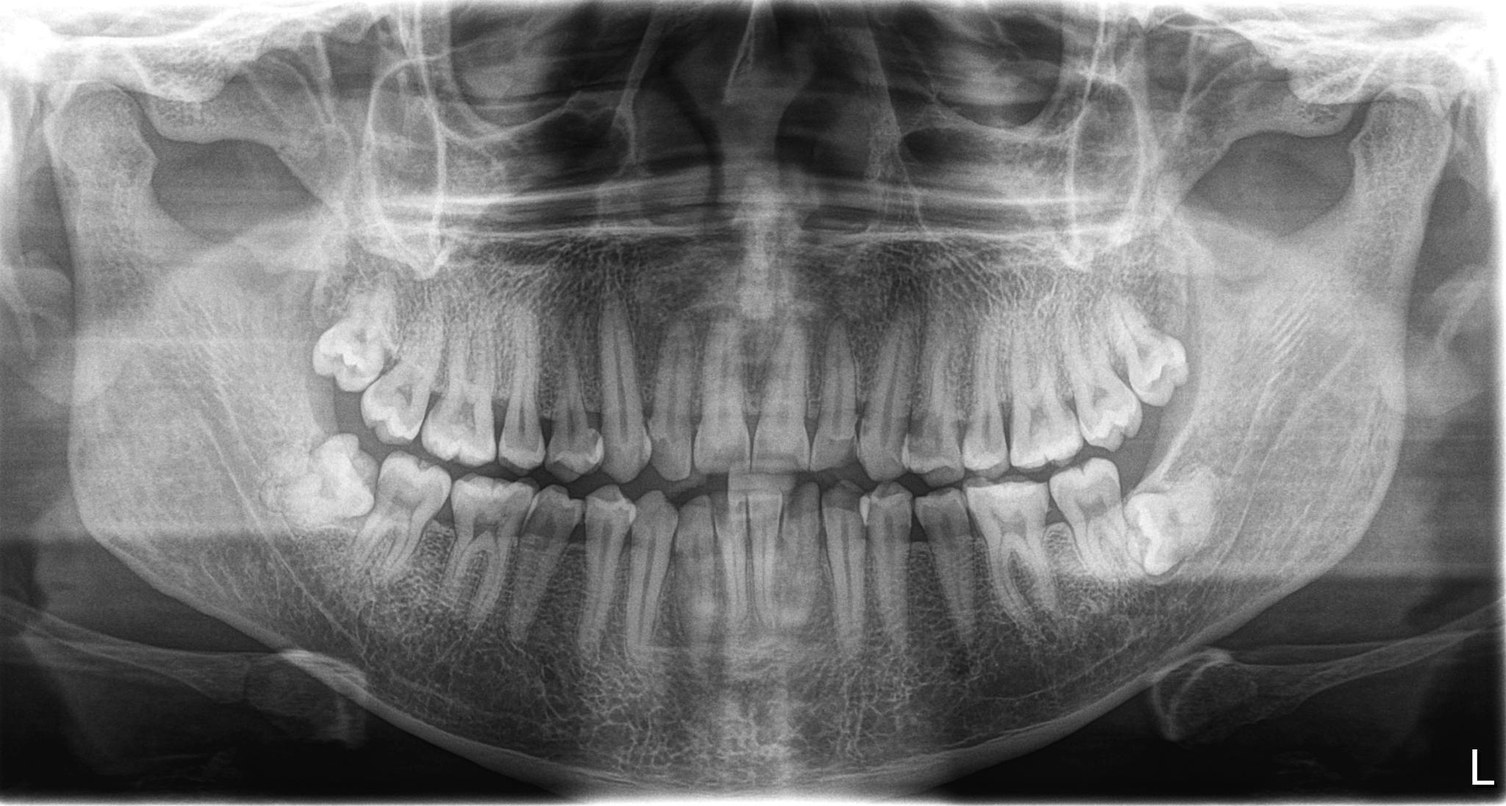Impacted Third Molar: (268, 441, 377, 529), (305, 283, 386, 389), (1116, 307, 1202, 405), (1132, 493, 1241, 566)
